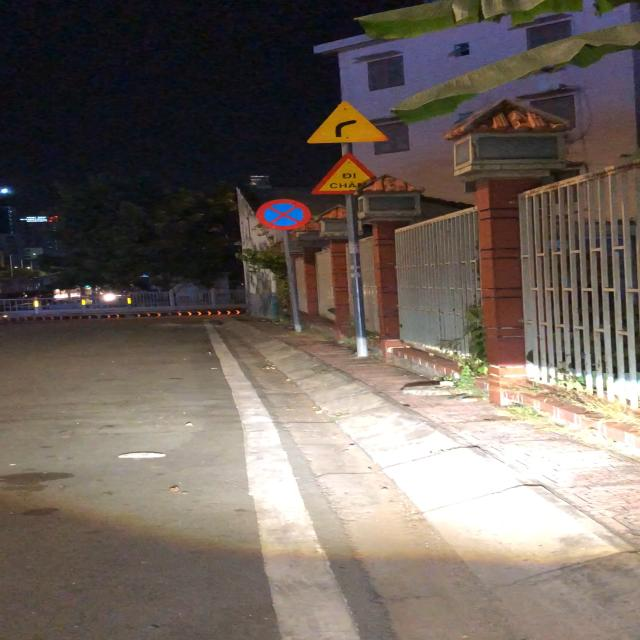Bien bao cam dung xe va do xe: (254, 198, 312, 232)
Bien bao cho ngoat nguy hiem: (304, 100, 390, 144)
Bien bao di cham: (311, 151, 384, 195)
